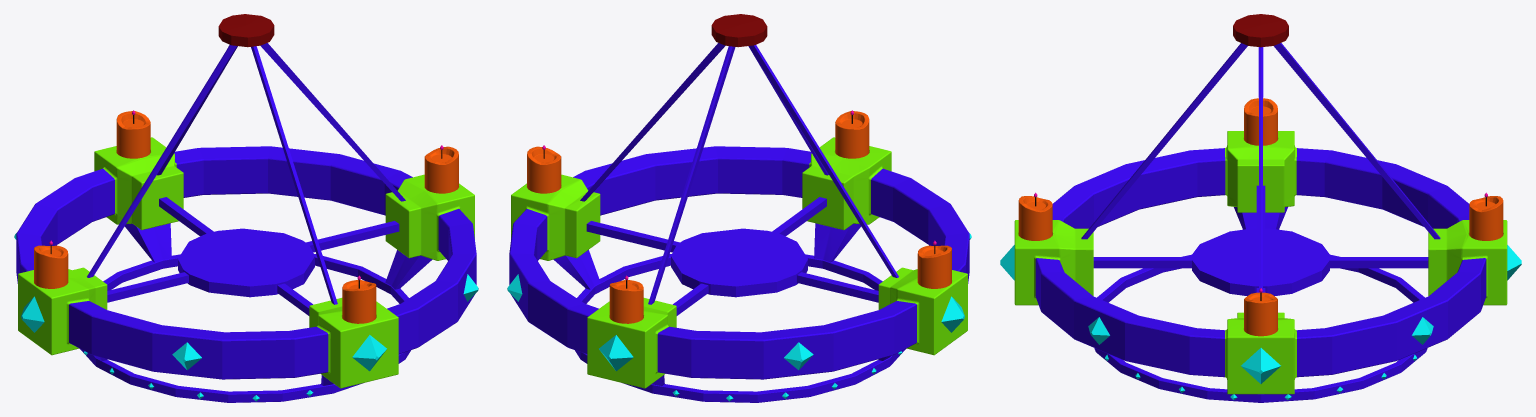
File: sm_chandelier.fbx
3 views of the same model, side by side, from view 1: azimuth 30°, elevation 25°; view 2: azimuth 150°, elevation 25°; view 3: azimuth 270°, elevation 25° (orthographic).
Visible parts, largest first — view 1: chandelier_low (×5); view 2: chandelier_low (×5); view 3: chandelier_low (×5).
Boxes of the visible parts, <box> form: chandelier_low (×5): <box>14,14,478,402</box>; chandelier_low (×5): <box>507,14,971,402</box>; chandelier_low (×5): <box>1000,14,1521,402</box>.
Size of the model in its own units: 66.06 by 42.86 by 66.5.
